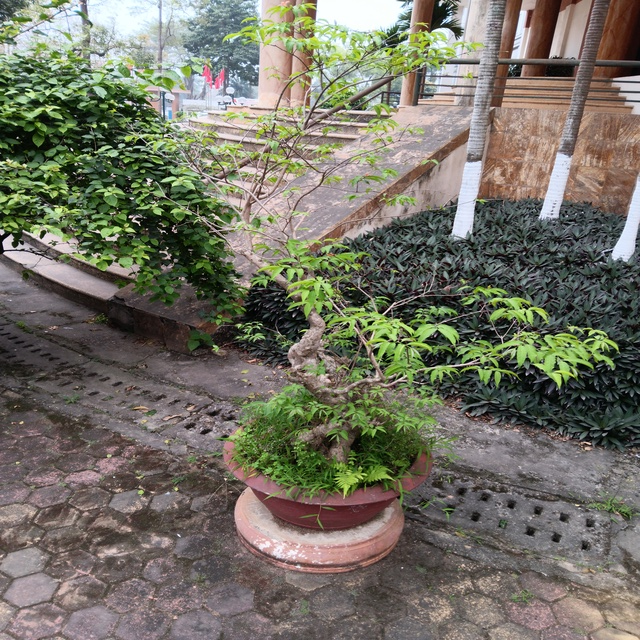caycanh: (193, 13, 472, 571)
